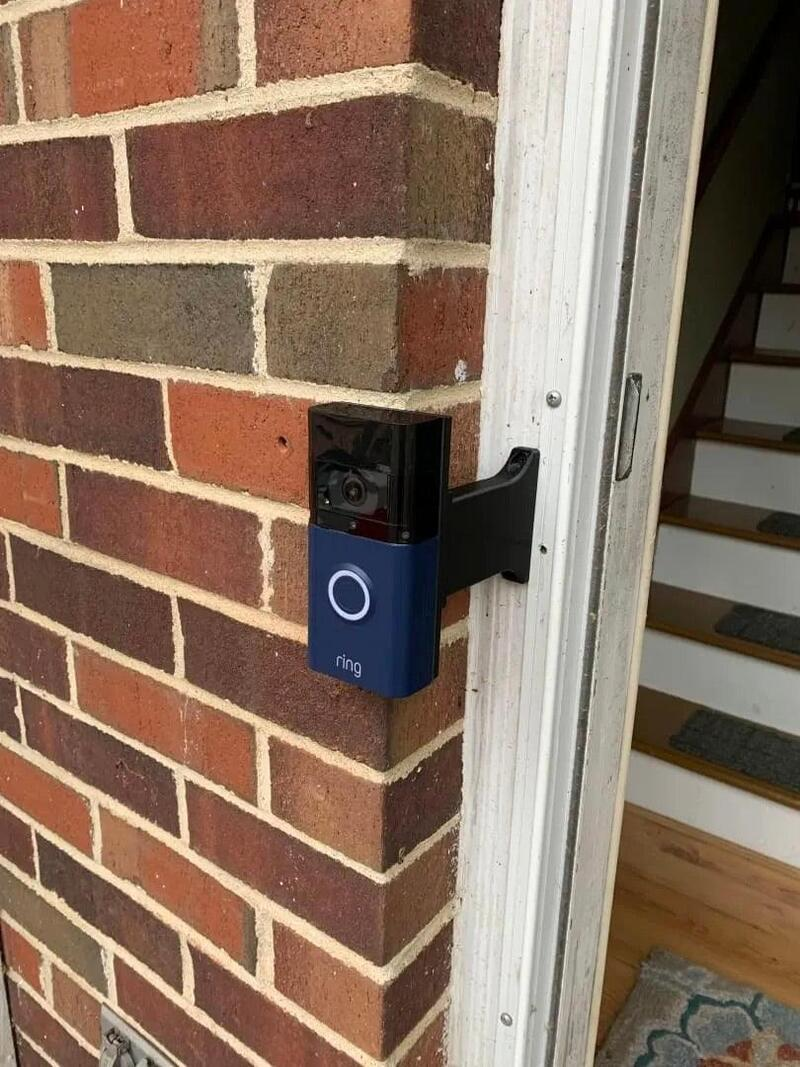doorbell: (289, 359, 454, 703)
